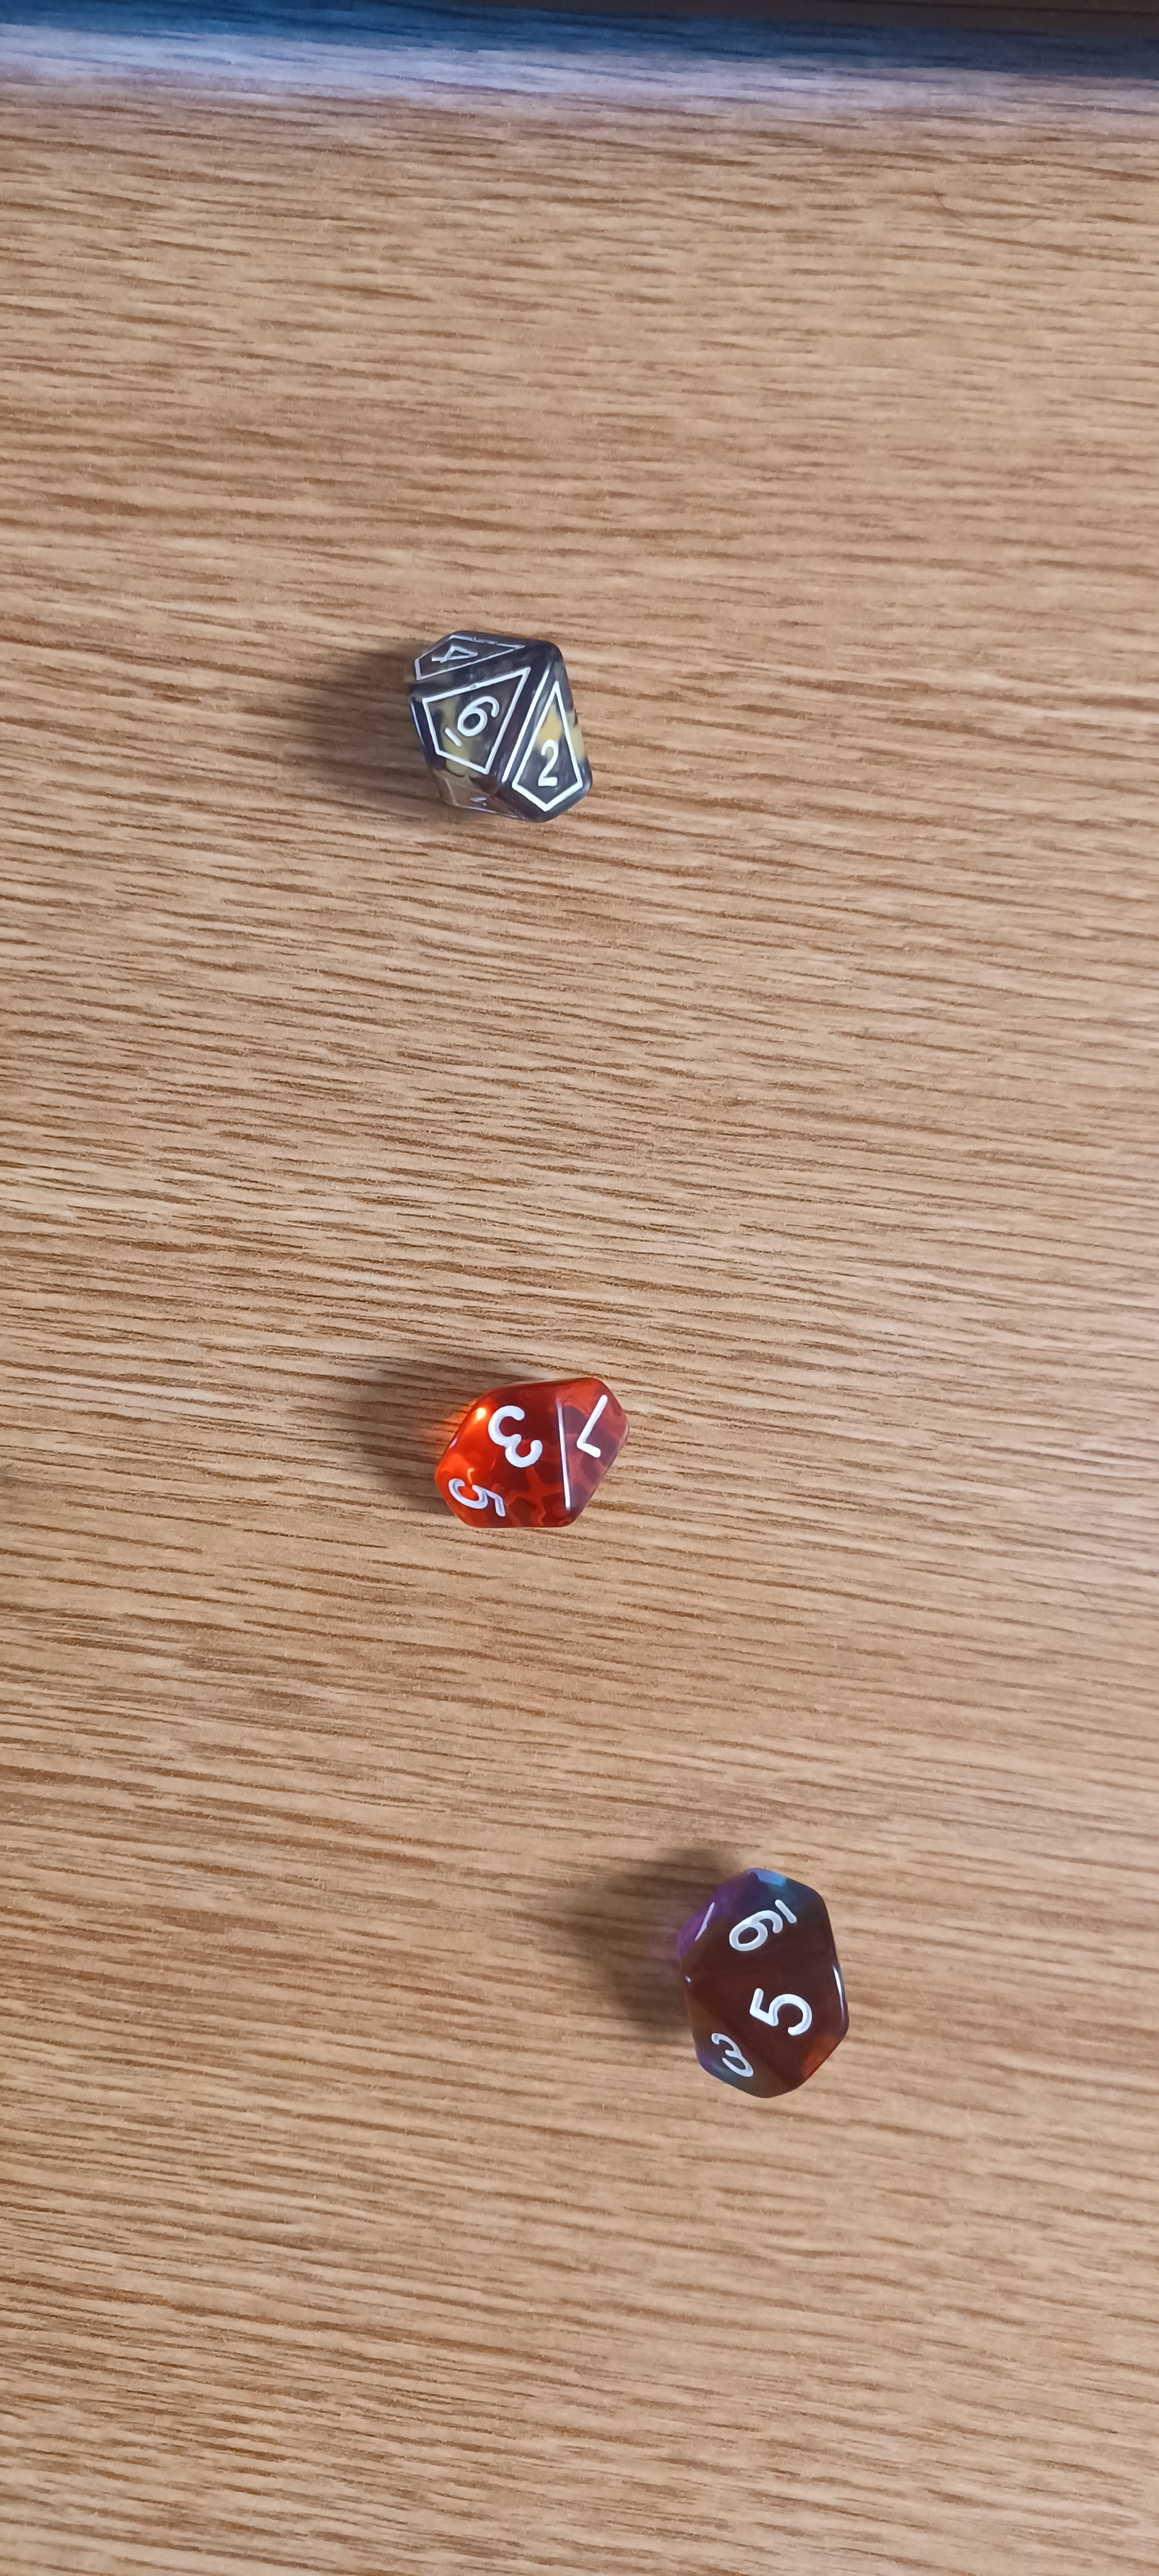five: (637, 1827, 905, 2141)
six: (387, 601, 639, 853)
three: (396, 1324, 675, 1584)
